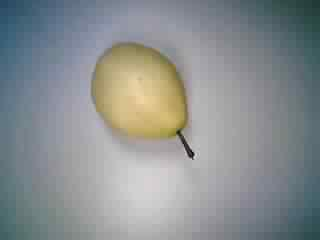pear: (81, 37, 208, 175)
